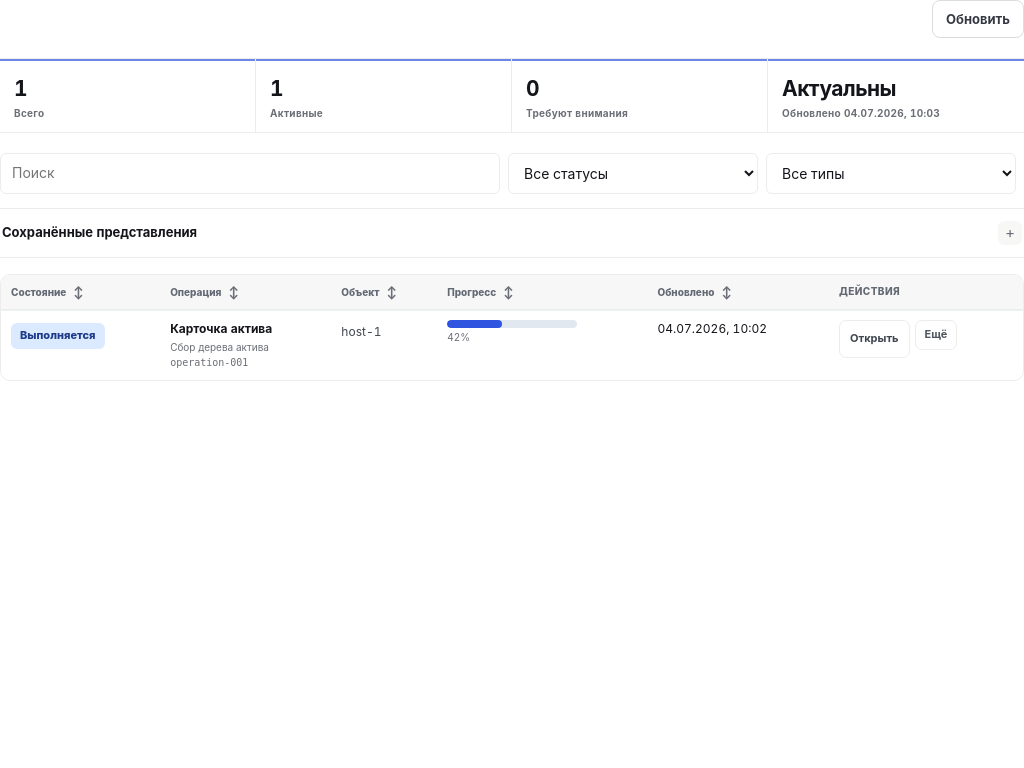
Test: OperationsPage critical states › asks for cancellation from the drawer and keeps the returned operation
Click the button "Открыть".
click(874, 339)  # box top-left (839, 320), bottom-right (910, 358)
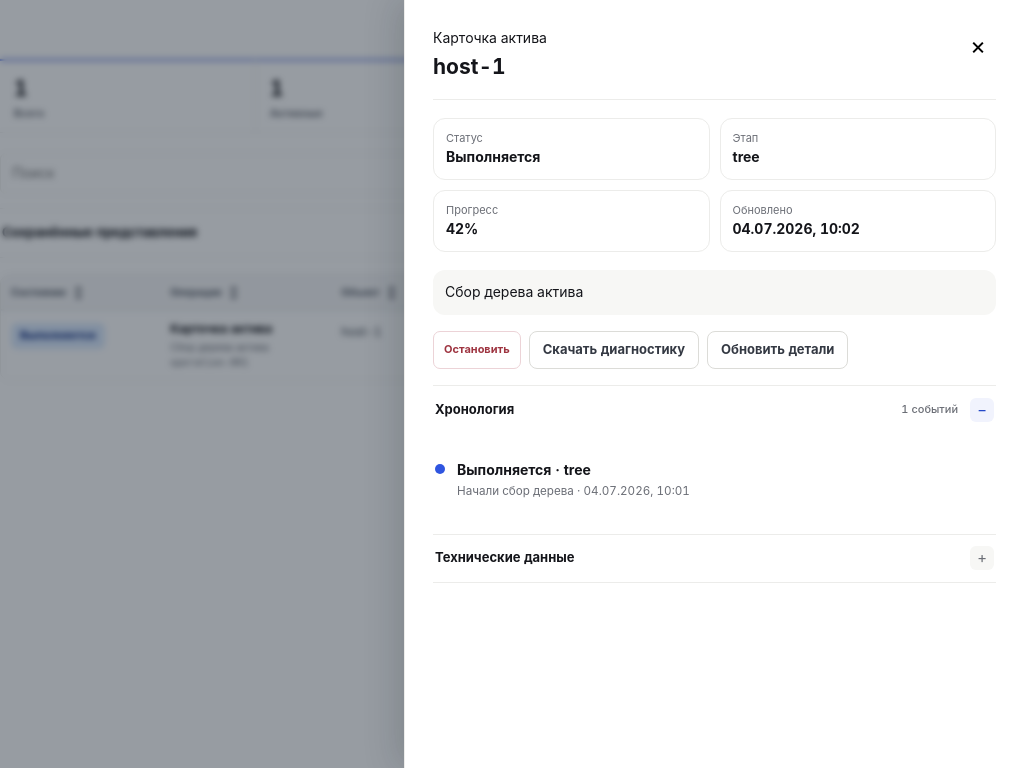
Click the button "Остановить".
click(477, 350)  # box top-left (433, 330), bottom-right (521, 368)
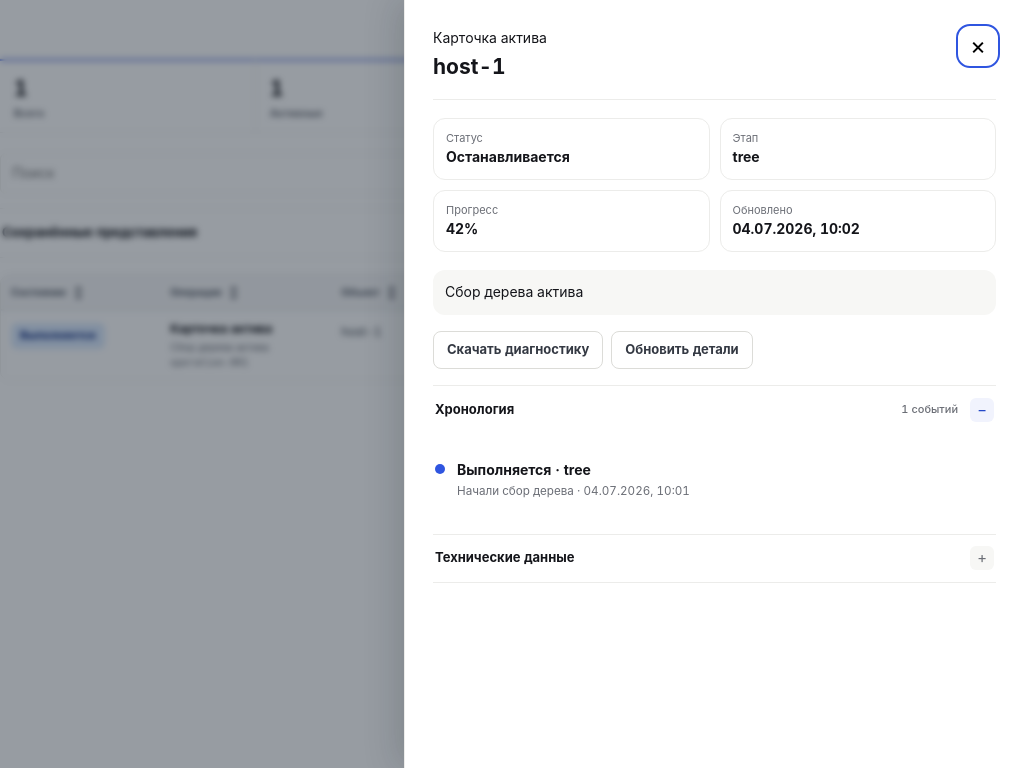
Check: the text "Останавливается" is shown, box top-left (446, 148), bottom-right (570, 165)
